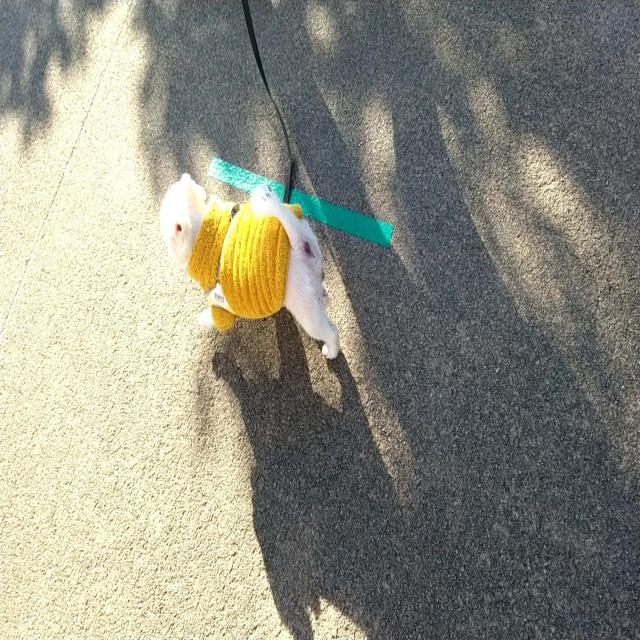Dog: (159, 171, 339, 360)
